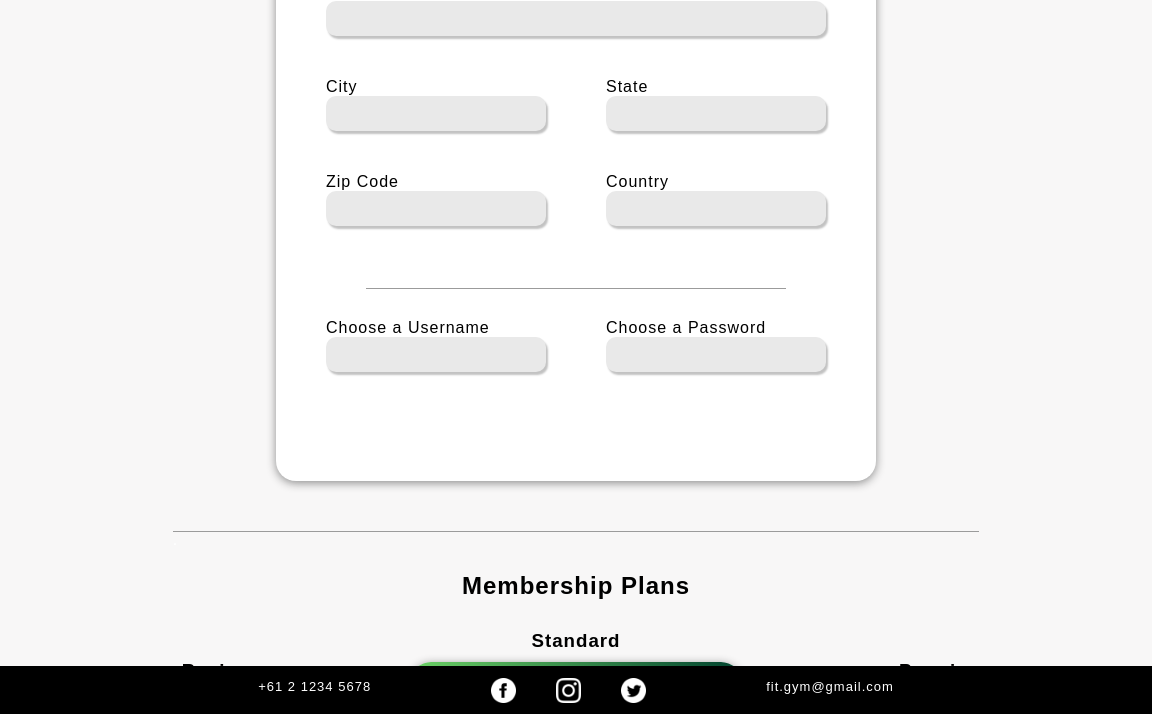
Test: Ensures sign up form inputs meet minimum requirements › Displays error if password does not contain at least three digits.
The width and height of the screenshot is (1152, 714).
(page scrolled)
Type "mypass23" into the password field labelled "Choose a Password".
click(716, 355); type("mypass23")  # box x1=606 y1=337 x2=826 y2=372
(page scrolled)
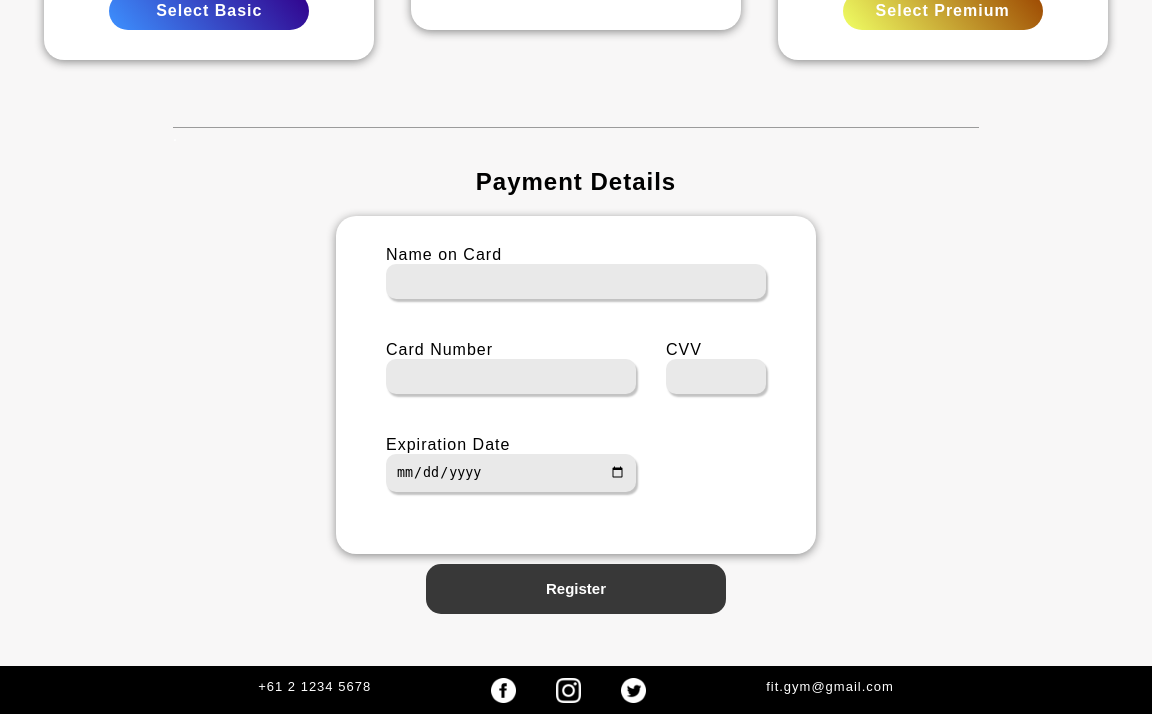
Click the button "Register".
click(576, 589)  # box x1=426 y1=564 x2=726 y2=614
(page scrolled)
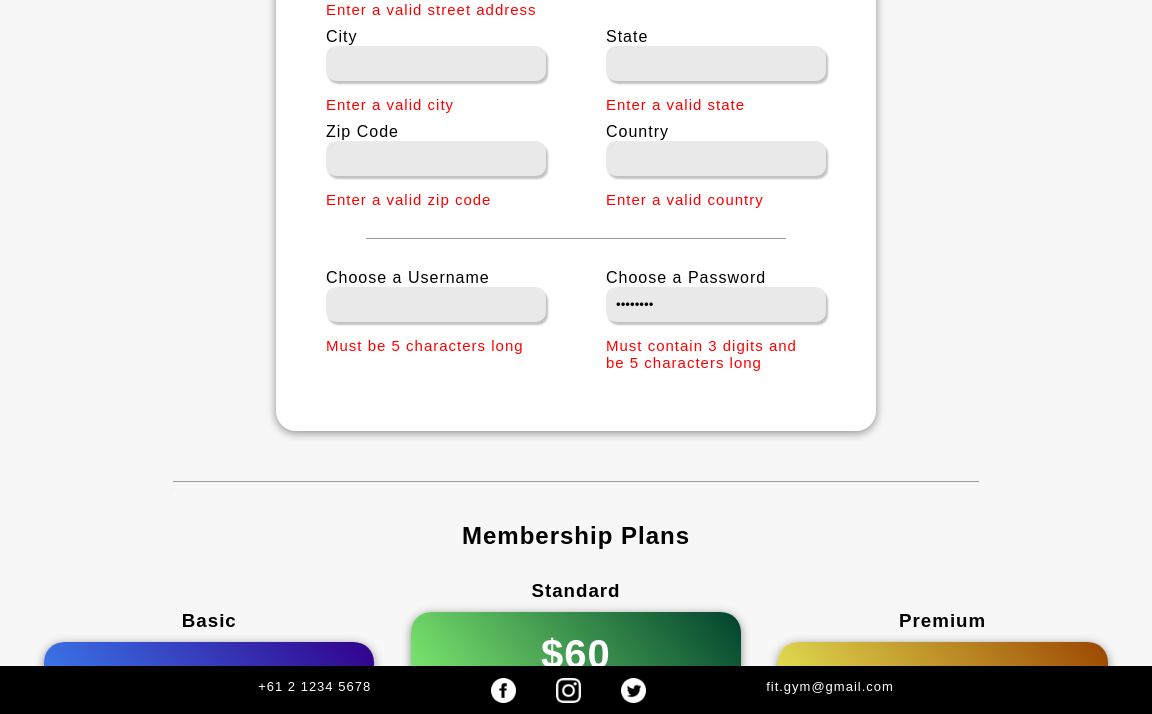
Expected: the text "Must contain 3 digits and be 5 characters long" is shown, x1=606 y1=337 x2=826 y2=371
